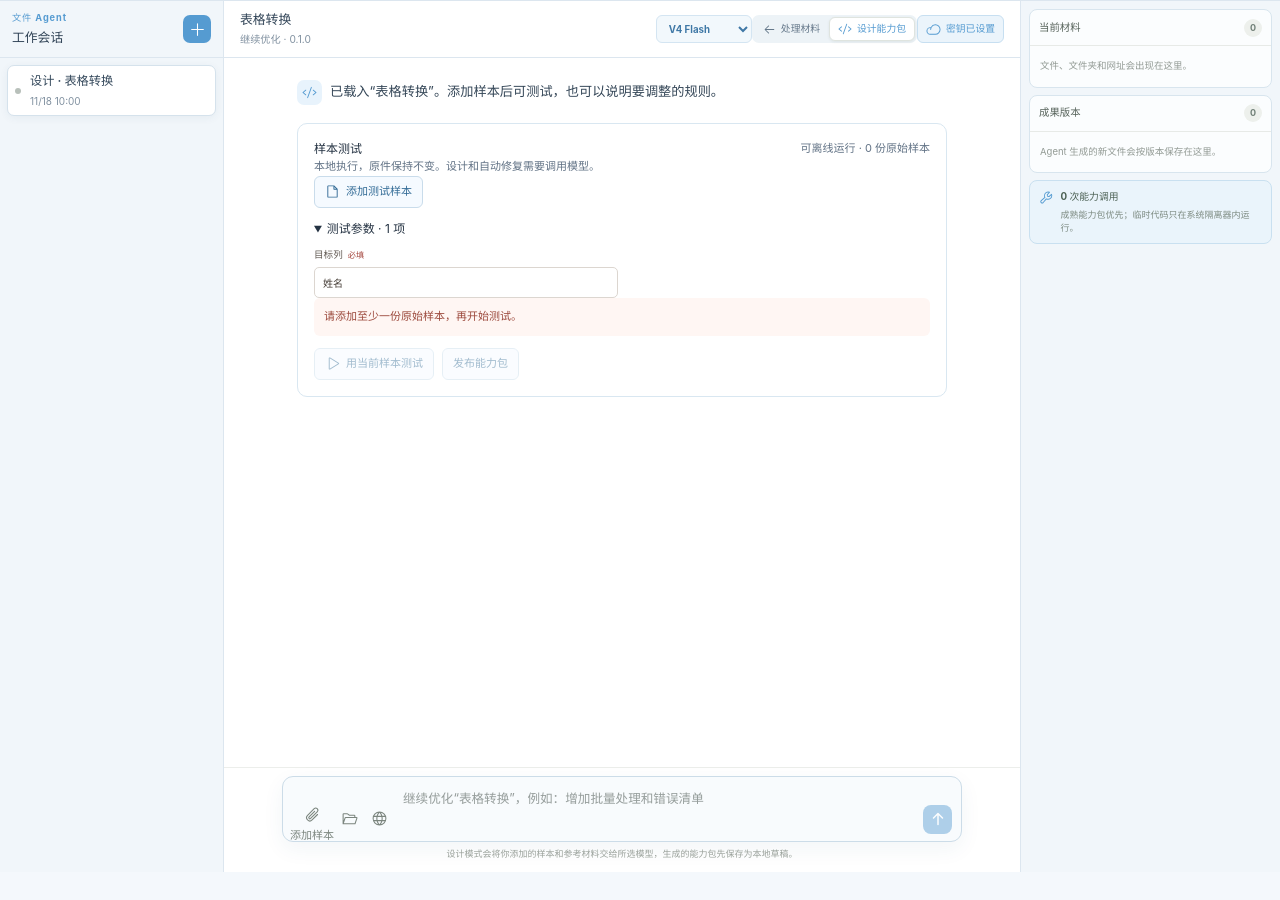
Test: design session lifecycle › repairs a failed test with the same samples and parameter values
Check: the element named "能力包样本测试" is shown, box 297,123 -> 947,397
Check: the button named "新建设计会话" is enabled, box 183,15 -> 211,43
Click the button titled "添加文件".
click(312, 818)  # box 290,806 -> 334,832
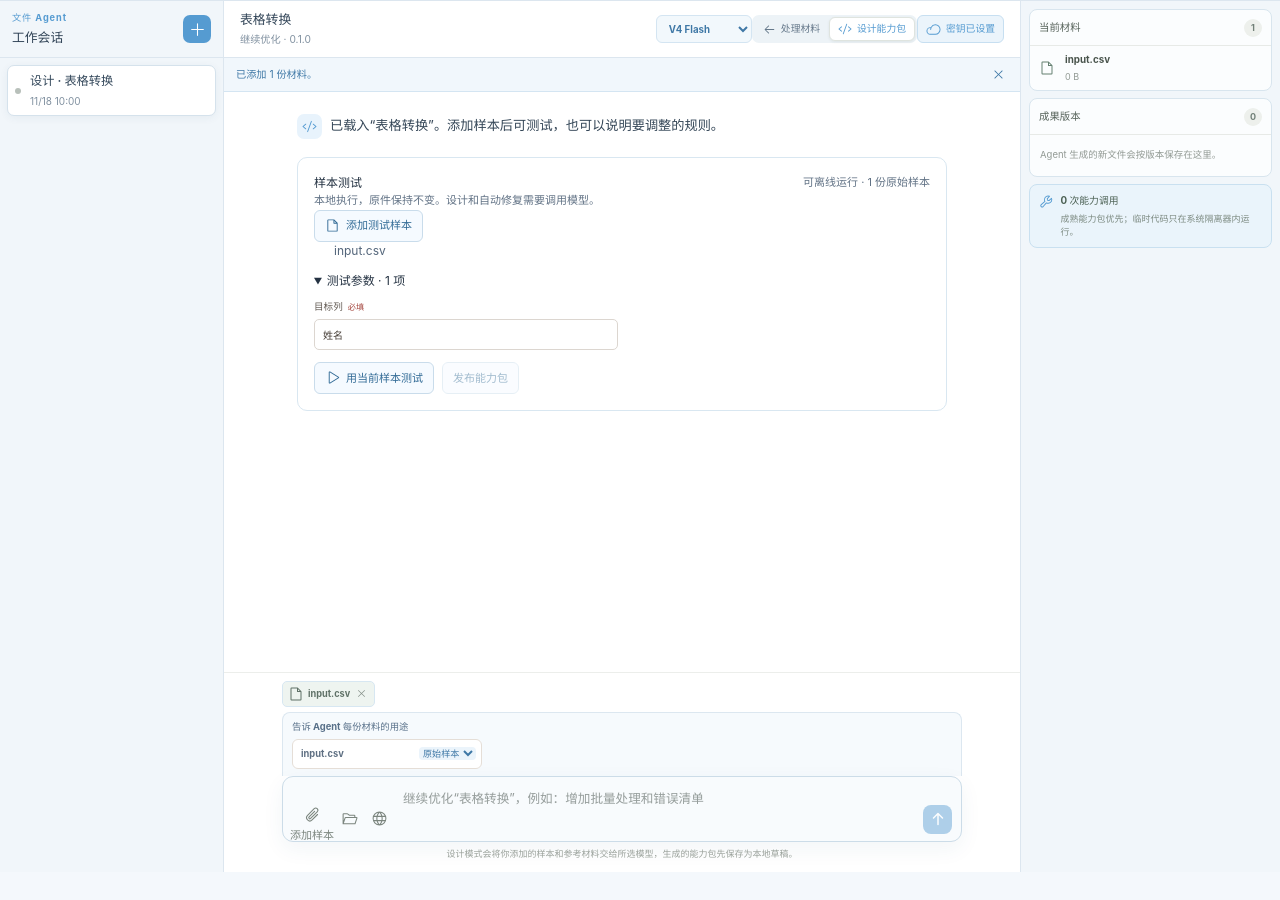
Check: the dropdown labelled "input.csv" is shown, box 419,747 -> 476,760
Click the button "用当前样本测试".
click(374, 378)  # box 314,362 -> 434,394
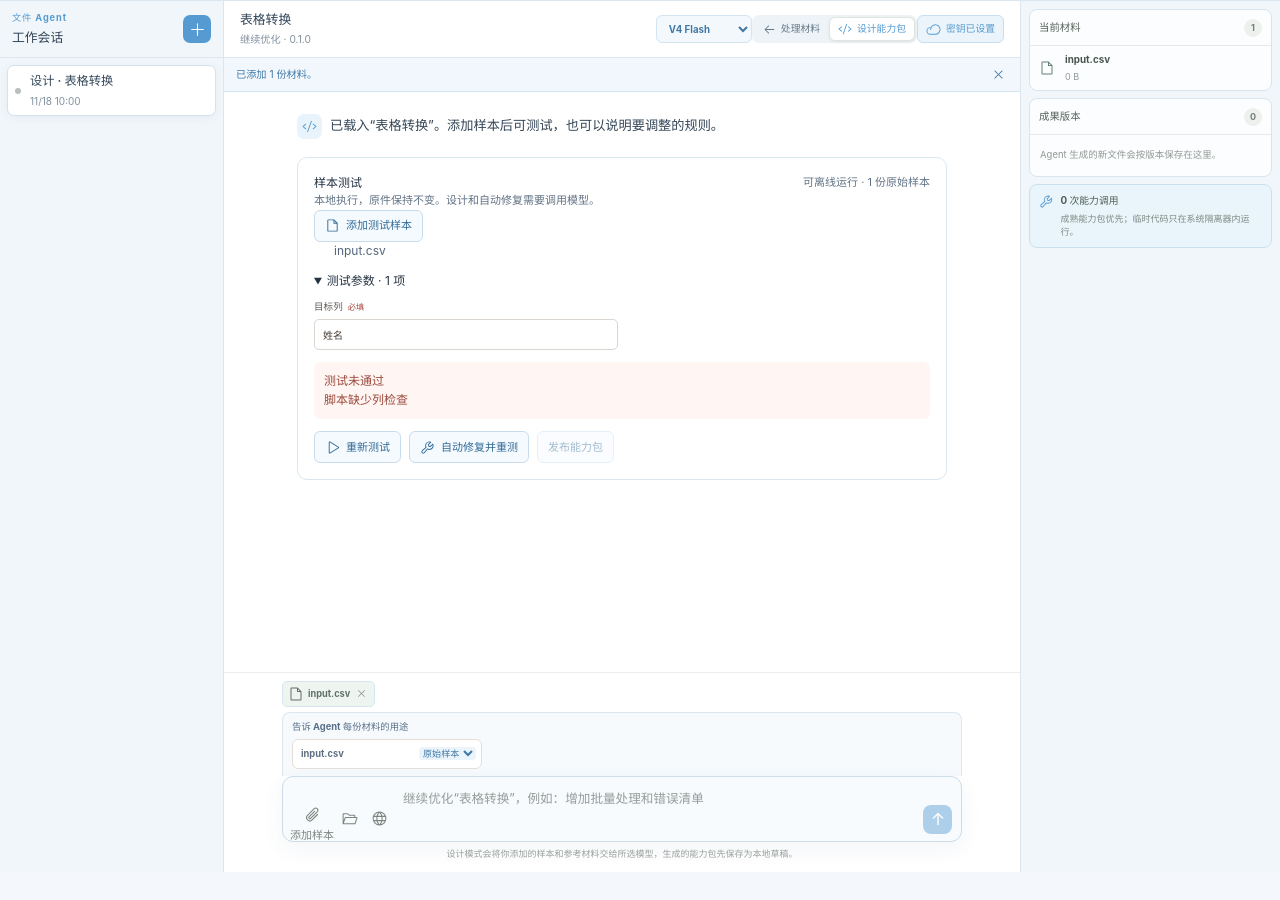
Click the button "自动修复并重测".
click(469, 447)  # box 409,431 -> 529,463
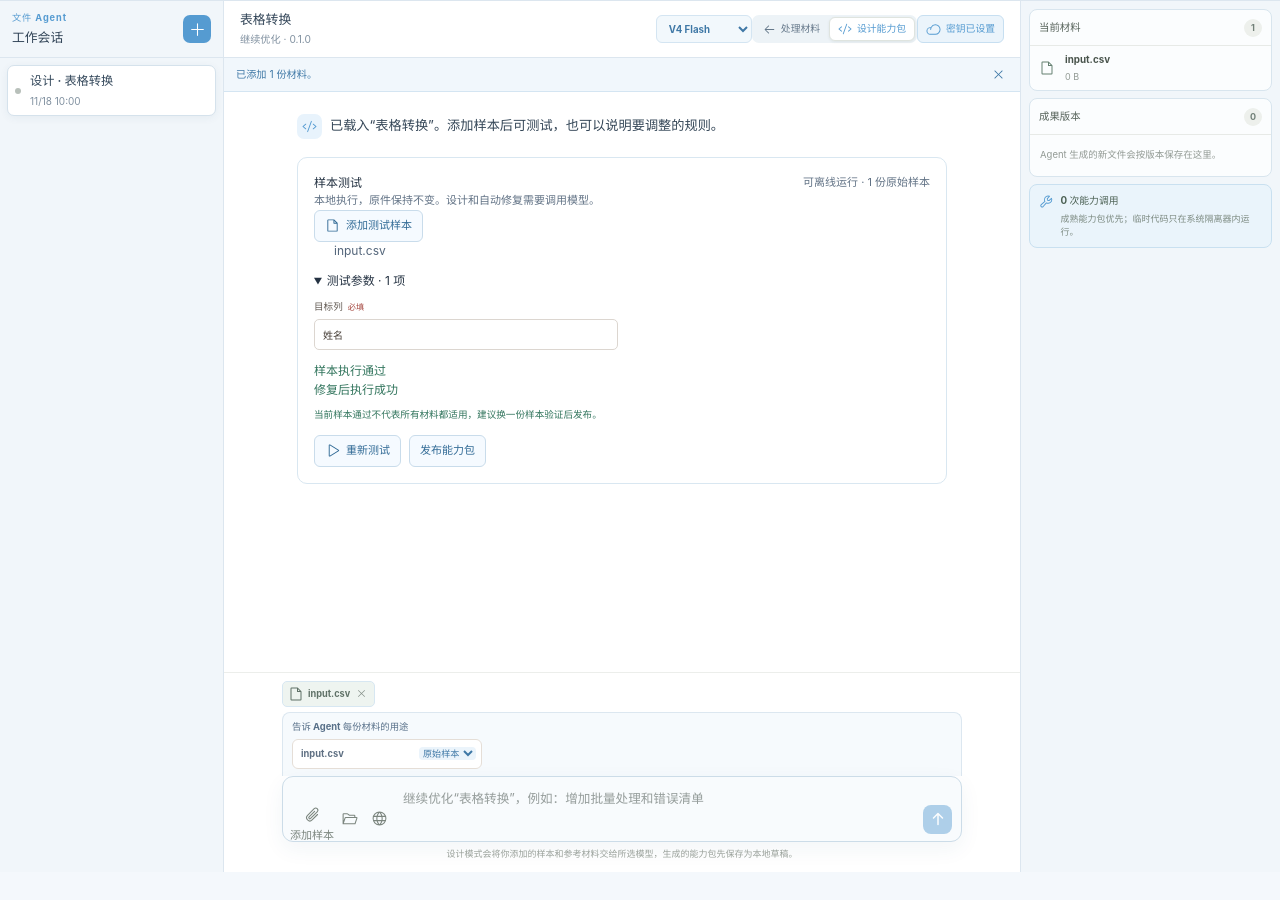
Check: the text "样本执行通过" is shown, box 314,363 -> 386,378
